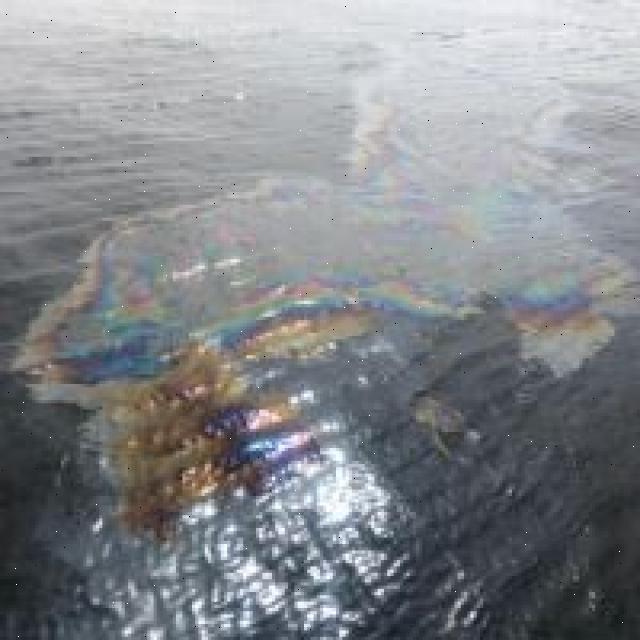rainbow: (48, 182, 464, 384)
truecolor: (262, 32, 586, 307), (102, 346, 246, 530)
